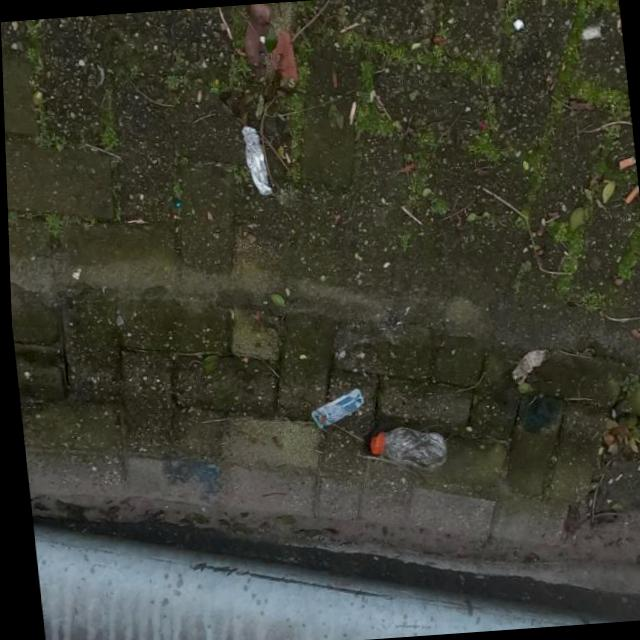Plastic: (305, 386, 366, 434), (239, 124, 272, 198)
